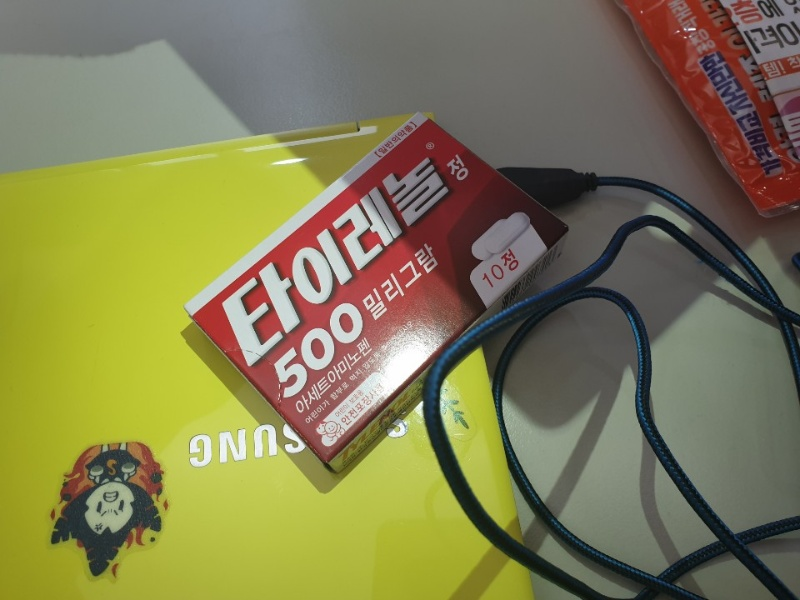tylenol: (183, 109, 568, 479)
